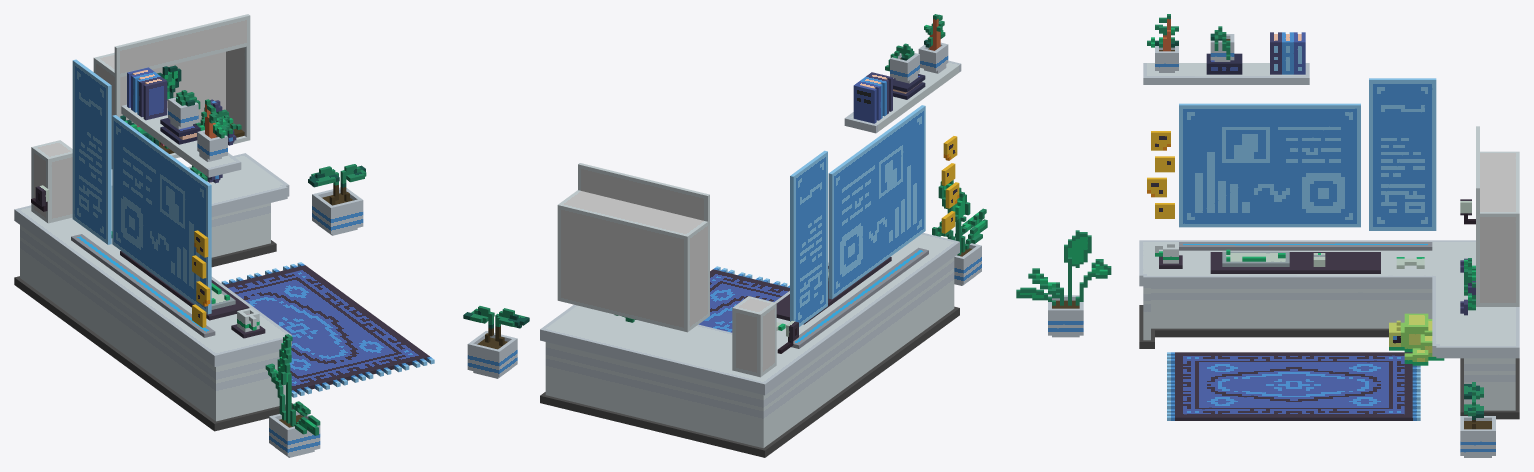
The model's file is PC Desk.gltf.
The picture shows the model from 3 angles, left to right: view 1: azimuth 30°, elevation 25°; view 2: azimuth 150°, elevation 25°; view 3: azimuth 270°, elevation 25°; orthographic projection. The views are drawn at different scales.
Visible parts, largest first — view 1: Content-Mesh; view 2: Content-Mesh; view 3: Content-Mesh.
Part boxes in pixels (x1,y1,x2,y2): Content-Mesh: (14,14,434,457); Content-Mesh: (463,14,987,457); Content-Mesh: (1016,14,1519,457).
Size of the model in its own units: 92 by 84 by 127.
1 material, 1 textured.
